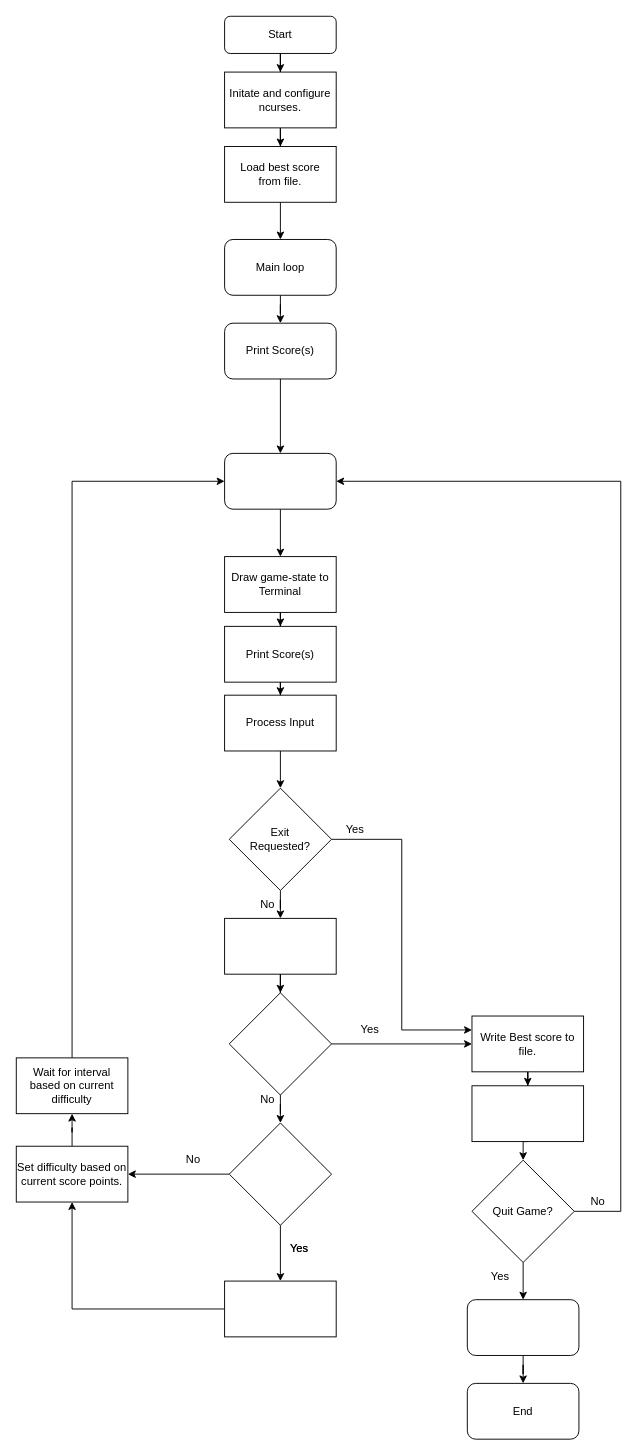
The diagram is 644 pixels wide and 1455 high, and some of its shapes have lost their labels. Each missing label, with the centre of its shape:
Did Snake hit itself or a Wall?: (280,1043)
Dispose ncurses Resources: (522,1327)
Game Loop: (280,480)
Increase score by 1. Update best Score. Spawn new Apple: (280,1308)
Is snake head position |same as Apple?: (280,1173)
Move snake body based on current direction: (280,945)
Show Restart/Quit Frame: (527,1113)
